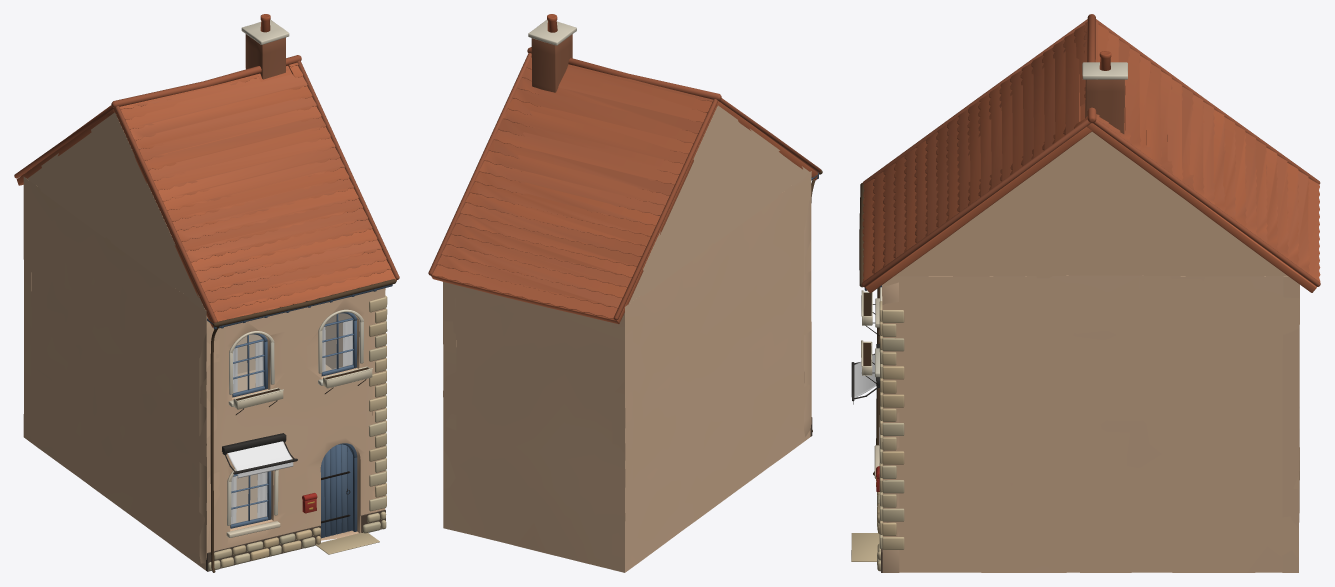
The model's file is Opposite_Opposite2_2.glb.
3 renders of one model, left to right at view 1: azimuth 30°, elevation 25°; view 2: azimuth 150°, elevation 25°; view 3: azimuth 270°, elevation 25°, orthographic. The views are drawn at different scales.
Parts seen in each view (by area): view 1: Sammel Putz, Sammel Stein, Sammel Lack, Glas, Sammel Metall, Sammel Putz innen, Vorhang Leinen, Markisenstoff Petrol, Sammel Ziegel; view 2: Sammel Putz, Sammel Stein, Sammel Ziegel; view 3: Sammel Putz, Sammel Stein, Sammel Ziegel, Sammel Metall, Sammel Lack.
Part boxes in pixels (x1,y1,x2,y2): Sammel Putz: [23, 14, 385, 571]; Sammel Stein: [14, 55, 399, 570]; Sammel Lack: [207, 284, 392, 538]; Glas: [231, 313, 352, 524]; Sammel Metall: [210, 279, 396, 572]; Sammel Putz innen: [234, 313, 351, 523]; Vorhang Leinen: [231, 320, 352, 523]; Markisenstoff Petrol: [227, 441, 293, 478]; Sammel Ziegel: [245, 34, 285, 79]; Sammel Putz: [443, 14, 812, 572]; Sammel Stein: [428, 47, 820, 324]; Sammel Ziegel: [531, 34, 572, 92]; Sammel Putz: [863, 51, 1299, 572]; Sammel Stein: [851, 14, 1320, 571]; Sammel Ziegel: [1085, 79, 1124, 133]; Sammel Metall: [851, 183, 879, 486]; Sammel Lack: [861, 285, 881, 491].
Size of the model in its own units: 4.76 by 10.75 by 9.
